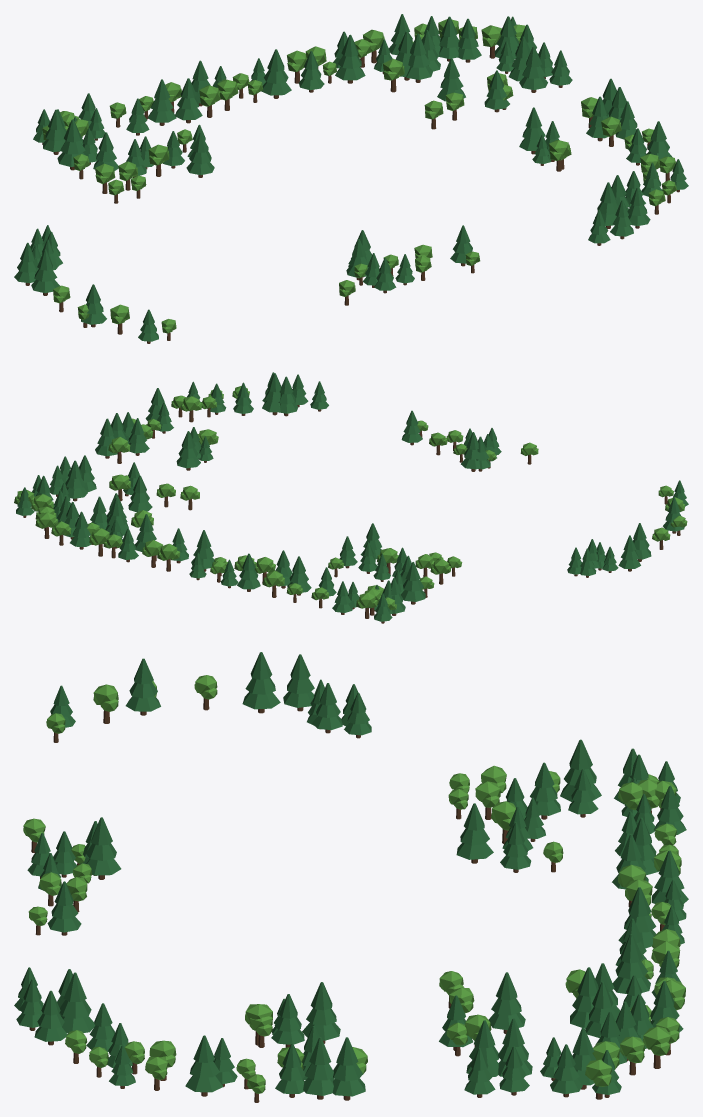
Rendered from LOBBY_VM_09_VEGETATION_2856ea.fbx.
The picture shows the model from 3 angles, top to bottom: view 1: azimuth 30°, elevation 25°; view 2: azimuth 150°, elevation 25°; view 3: azimuth 270°, elevation 25°; orthographic projection. The views are drawn at different scales.
Visible parts, largest first — view 1: VM_Veg_Trees_NE__Leaf_VM_Pine, VM_Veg_Trees_SE__Leaf_VM_Pine, VM_Veg_Trees_NW__Leaf_VM_Pine, VM_Veg_Trees_SW__Leaf_VM_Pine, VM_Veg_Trees_NE__Leaf_VM_Round, VM_Veg_Trees_NW__Leaf_VM_Round, VM_Veg_Trees_SE__Leaf_VM_Round, VM_Veg_Trees_SW__Leaf_VM_Round, VM_Veg_Trees_NE__Bark_VM, VM_Veg_Trees_NW__Bark_VM; view 2: VM_Veg_Trees_NE__Leaf_VM_Pine, VM_Veg_Trees_SE__Leaf_VM_Pine, VM_Veg_Trees_NW__Leaf_VM_Pine, VM_Veg_Trees_SW__Leaf_VM_Pine, VM_Veg_Trees_NE__Leaf_VM_Round, VM_Veg_Trees_NW__Leaf_VM_Round, VM_Veg_Trees_SE__Leaf_VM_Round, VM_Veg_Trees_SW__Leaf_VM_Round, VM_Veg_Trees_NE__Bark_VM, VM_Veg_Trees_NW__Bark_VM; view 3: VM_Veg_Trees_NE__Leaf_VM_Pine, VM_Veg_Trees_SE__Leaf_VM_Pine, VM_Veg_Trees_NW__Leaf_VM_Pine, VM_Veg_Trees_SW__Leaf_VM_Pine, VM_Veg_Trees_NE__Leaf_VM_Round, VM_Veg_Trees_NW__Leaf_VM_Round, VM_Veg_Trees_SE__Leaf_VM_Round, VM_Veg_Trees_SW__Leaf_VM_Round, VM_Veg_Trees_SE__Bark_VM.
Part boxes in pixels (<box>): VM_Veg_Trees_NE__Leaf_VM_Pine: <box>250,14,572,109</box>; VM_Veg_Trees_SE__Leaf_VM_Pine: <box>450,78,688,263</box>; VM_Veg_Trees_NW__Leaf_VM_Pine: <box>33,60,226,176</box>; VM_Veg_Trees_SW__Leaf_VM_Pine: <box>14,225,414,341</box>; VM_Veg_Trees_NE__Leaf_VM_Round: <box>232,19,525,119</box>; VM_Veg_Trees_NW__Leaf_VM_Round: <box>42,79,238,195</box>; VM_Veg_Trees_SE__Leaf_VM_Round: <box>465,97,676,265</box>; VM_Veg_Trees_SW__Leaf_VM_Round: <box>53,244,432,333</box>; VM_Veg_Trees_NE__Bark_VM: <box>239,43,562,129</box>; VM_Veg_Trees_NW__Bark_VM: <box>42,99,229,203</box>; VM_Veg_Trees_NE__Leaf_VM_Pine: <box>16,455,214,578</box>; VM_Veg_Trees_SE__Leaf_VM_Pine: <box>95,372,422,468</box>; VM_Veg_Trees_NW__Leaf_VM_Pine: <box>220,523,425,621</box>; VM_Veg_Trees_SW__Leaf_VM_Pine: <box>461,428,688,575</box>; VM_Veg_Trees_NE__Leaf_VM_Round: <box>14,474,227,574</box>; VM_Veg_Trees_NW__Leaf_VM_Round: <box>234,548,462,610</box>; VM_Veg_Trees_SE__Leaf_VM_Round: <box>108,386,428,453</box>; VM_Veg_Trees_SW__Leaf_VM_Round: <box>429,430,687,541</box>; VM_Veg_Trees_NE__Bark_VM: <box>23,486,221,582</box>; VM_Veg_Trees_NW__Bark_VM: <box>228,562,455,623</box>; VM_Veg_Trees_NE__Leaf_VM_Pine: <box>439,887,684,1094</box>; VM_Veg_Trees_SE__Leaf_VM_Pine: <box>14,881,365,1096</box>; VM_Veg_Trees_NW__Leaf_VM_Pine: <box>456,739,688,920</box>; VM_Veg_Trees_SW__Leaf_VM_Pine: <box>27,652,371,890</box>; VM_Veg_Trees_NE__Leaf_VM_Round: <box>439,902,685,1086</box>; VM_Veg_Trees_NW__Leaf_VM_Round: <box>448,765,681,905</box>; VM_Veg_Trees_SE__Leaf_VM_Round: <box>28,906,367,1093</box>; VM_Veg_Trees_SW__Leaf_VM_Round: <box>23,675,217,901</box>; VM_Veg_Trees_SE__Bark_VM: <box>29,925,350,1102</box>.
Bounding box in the file's own units: 390 × 30.41 × 275.
